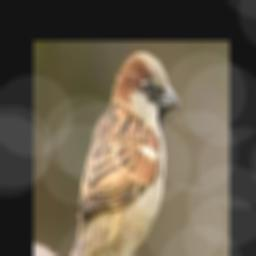Sparrow: (55, 51, 181, 256)
